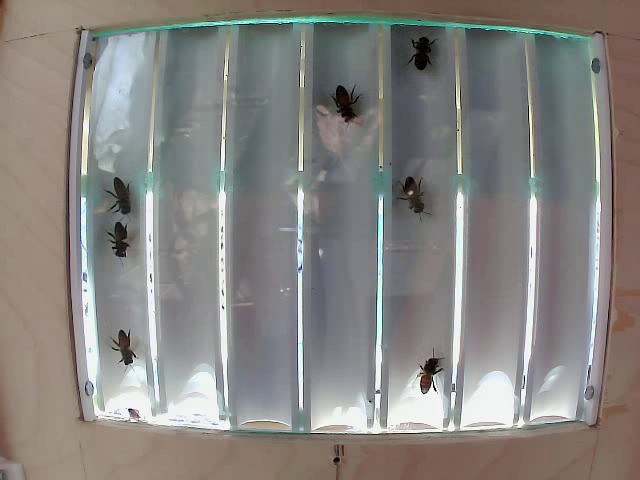bee: (324, 78, 364, 143), (102, 315, 140, 366), (400, 169, 440, 216), (109, 174, 147, 214), (392, 34, 429, 75), (100, 211, 127, 265)
